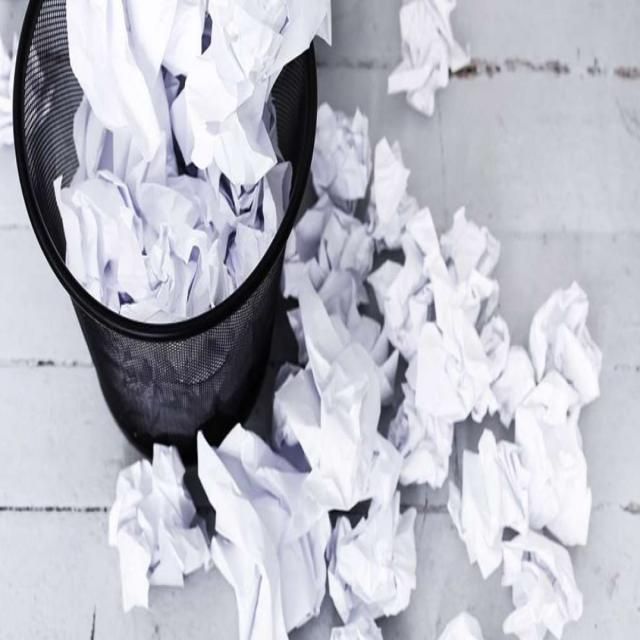Paper -Biodegradable-: (56, 0, 326, 319), (449, 286, 600, 640), (109, 450, 212, 605), (382, 0, 470, 108)
